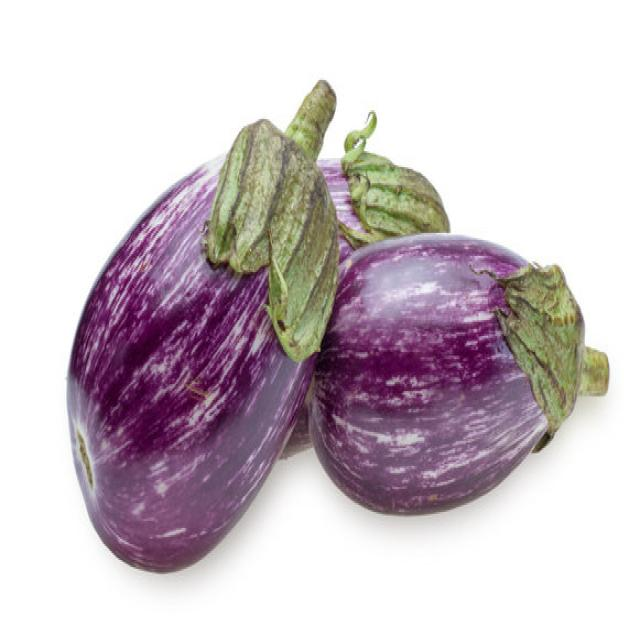Eggplant: (65, 77, 341, 572), (306, 230, 609, 516), (280, 109, 450, 455)
